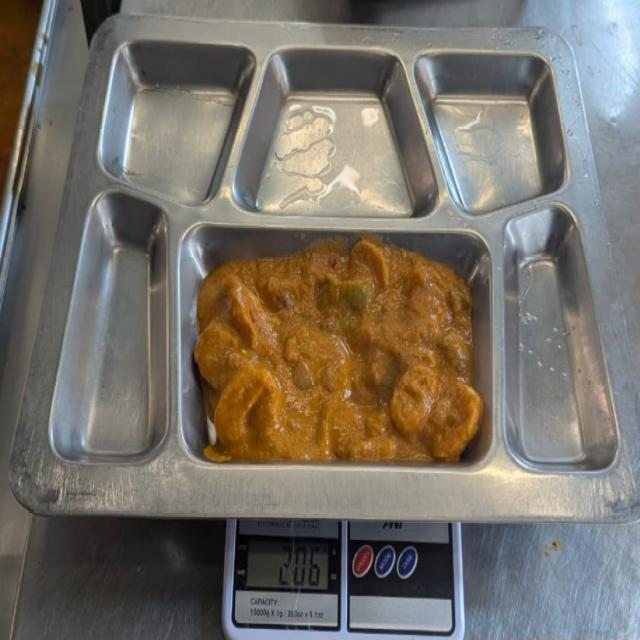Kadhai Chaap: (193, 232, 487, 465)
